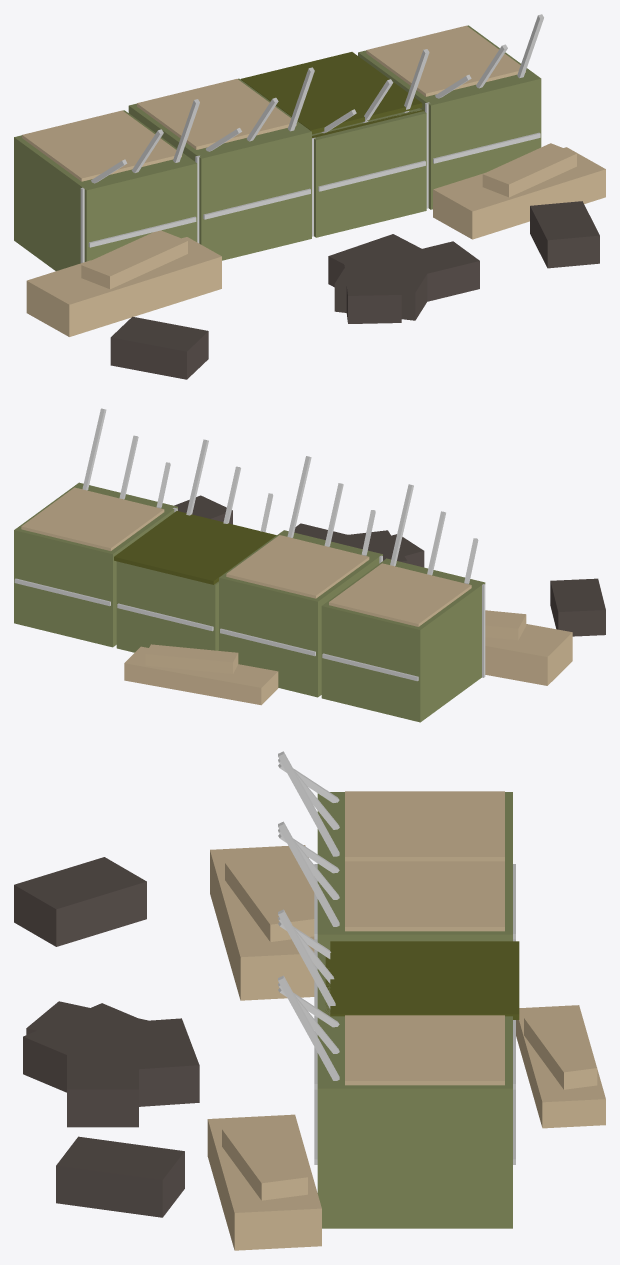
Rendered from SM_HescoCorto4_v4_Red_e2_MuyDanado_LOD0.fbx.
The picture shows the model from 3 angles, top to bottom: view 1: azimuth 30°, elevation 25°; view 2: azimuth 150°, elevation 25°; view 3: azimuth 270°, elevation 25°; orthographic projection. The views are drawn at different scales.
Visible parts, largest first — view 1: SM_hesco_piezas_v118_LOD0; view 2: SM_hesco_piezas_v118_LOD0; view 3: SM_hesco_piezas_v118_LOD0.
Boxes of the visible parts, bbox=[...] form: SM_hesco_piezas_v118_LOD0: bbox=[14, 14, 605, 379]; SM_hesco_piezas_v118_LOD0: bbox=[14, 408, 605, 722]; SM_hesco_piezas_v118_LOD0: bbox=[14, 751, 605, 1250].
Bounding box in the file's own units: 5.36 × 1.7 × 3.7.
